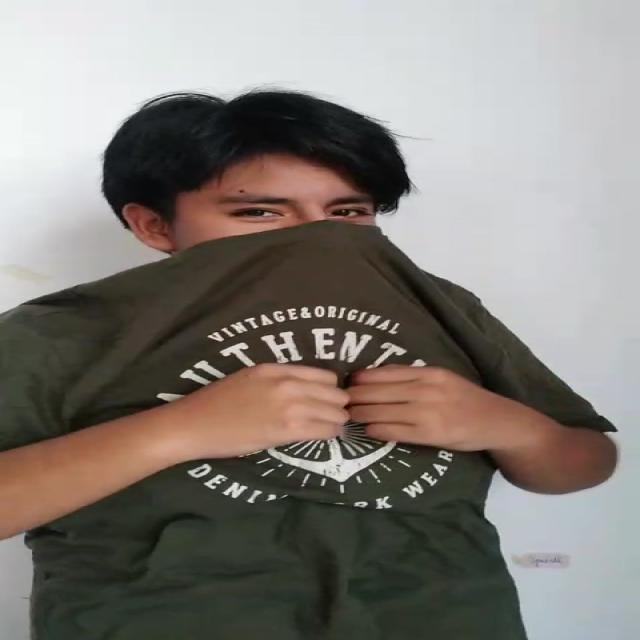8_ropa_rostro: (114, 217, 492, 358)
